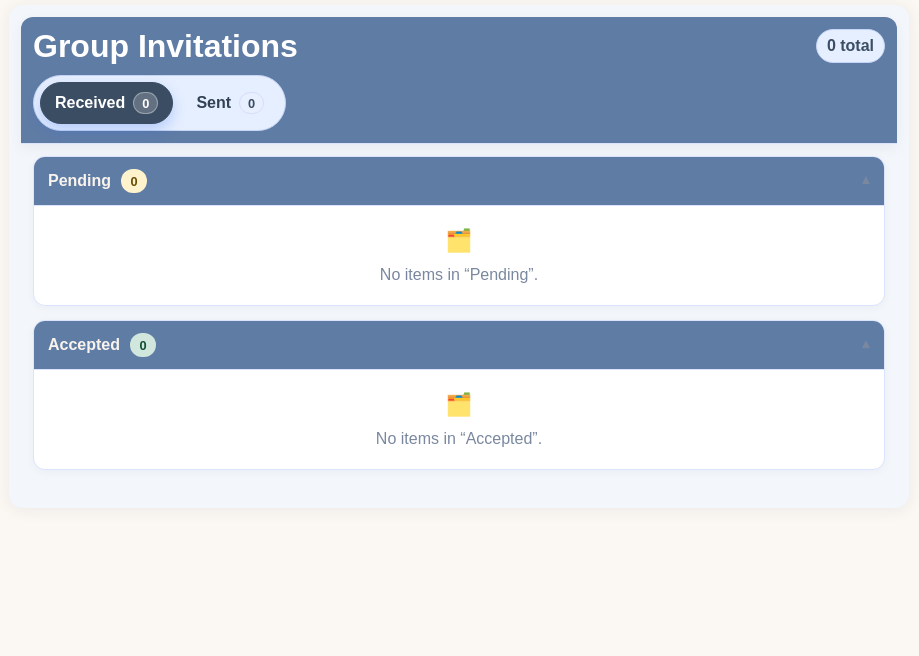
Invitations page › shows empty states when there are no invitations
Expected: the text "No items in “Pending”." is shown, [380,263,538,287]
Expected: the text "No items in “Accepted”." is shown, [376,427,542,451]
Note: Switch to Sent tab
Click the tab "Sent 0" at {"x": 230, "y": 103}, box [181,82,279,124]
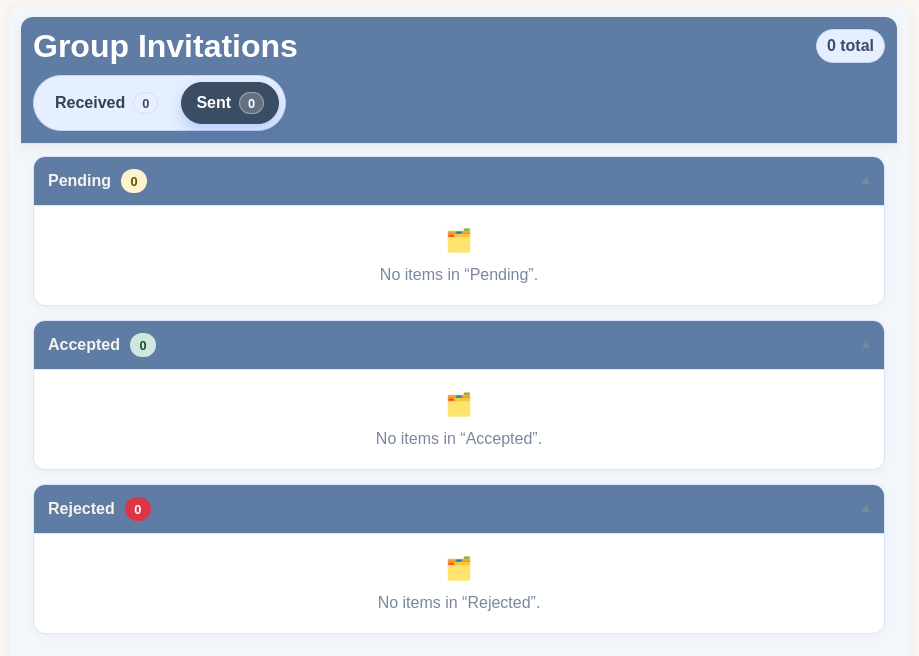
Expected: the text "No items in “Pending”." is shown, [380,263,538,287]
Result: the text "No items in “Rejected”." is shown at [378,591,540,615]
